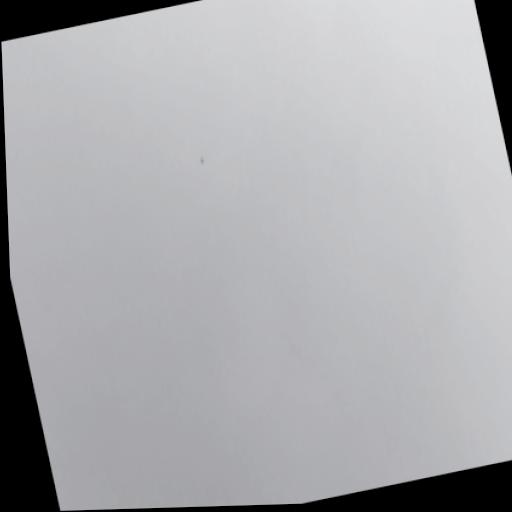drones: (197, 154, 206, 166)
